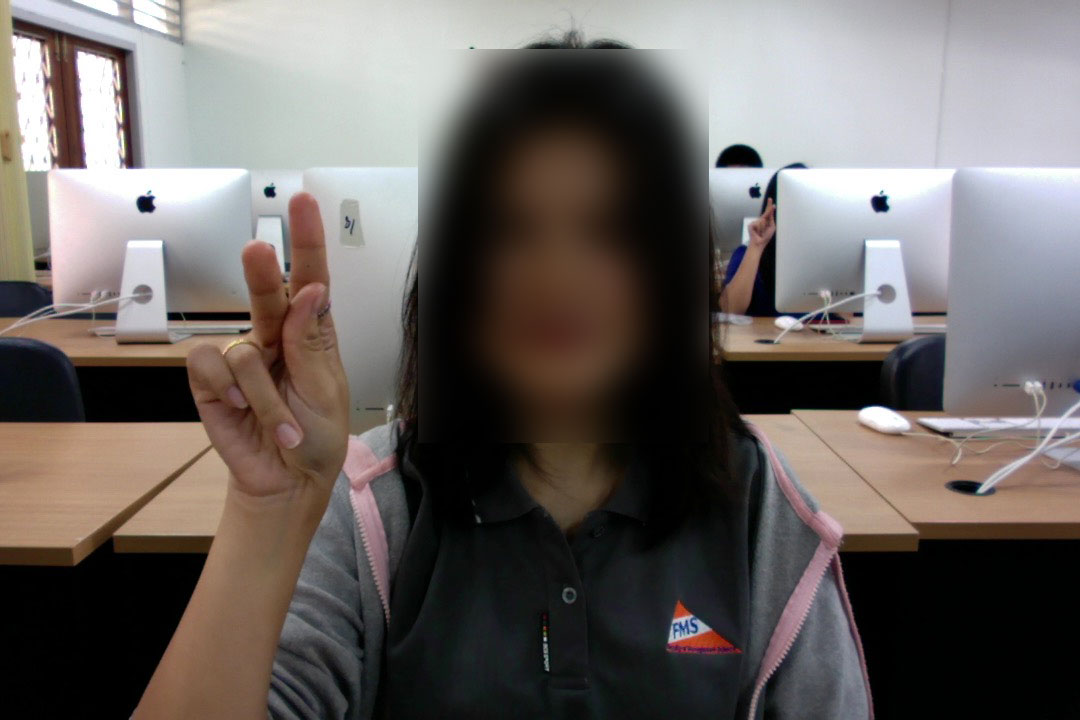ko: (175, 188, 356, 508)
